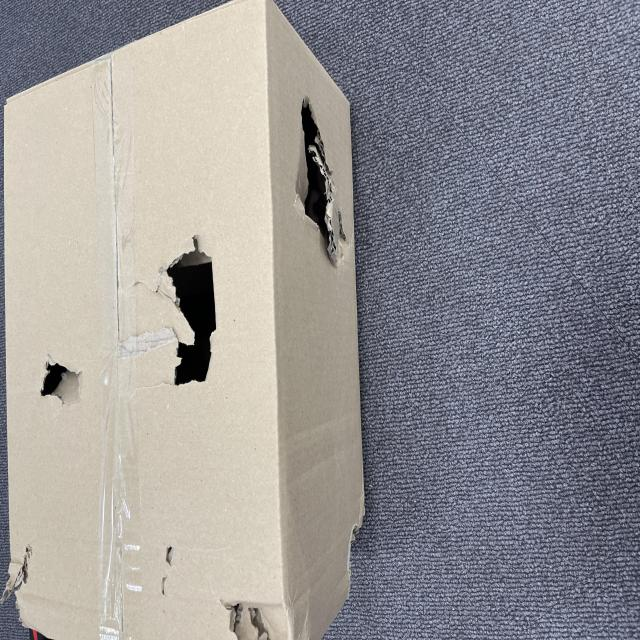damaged: (185, 206, 308, 298), (282, 392, 408, 458), (170, 50, 214, 101)
